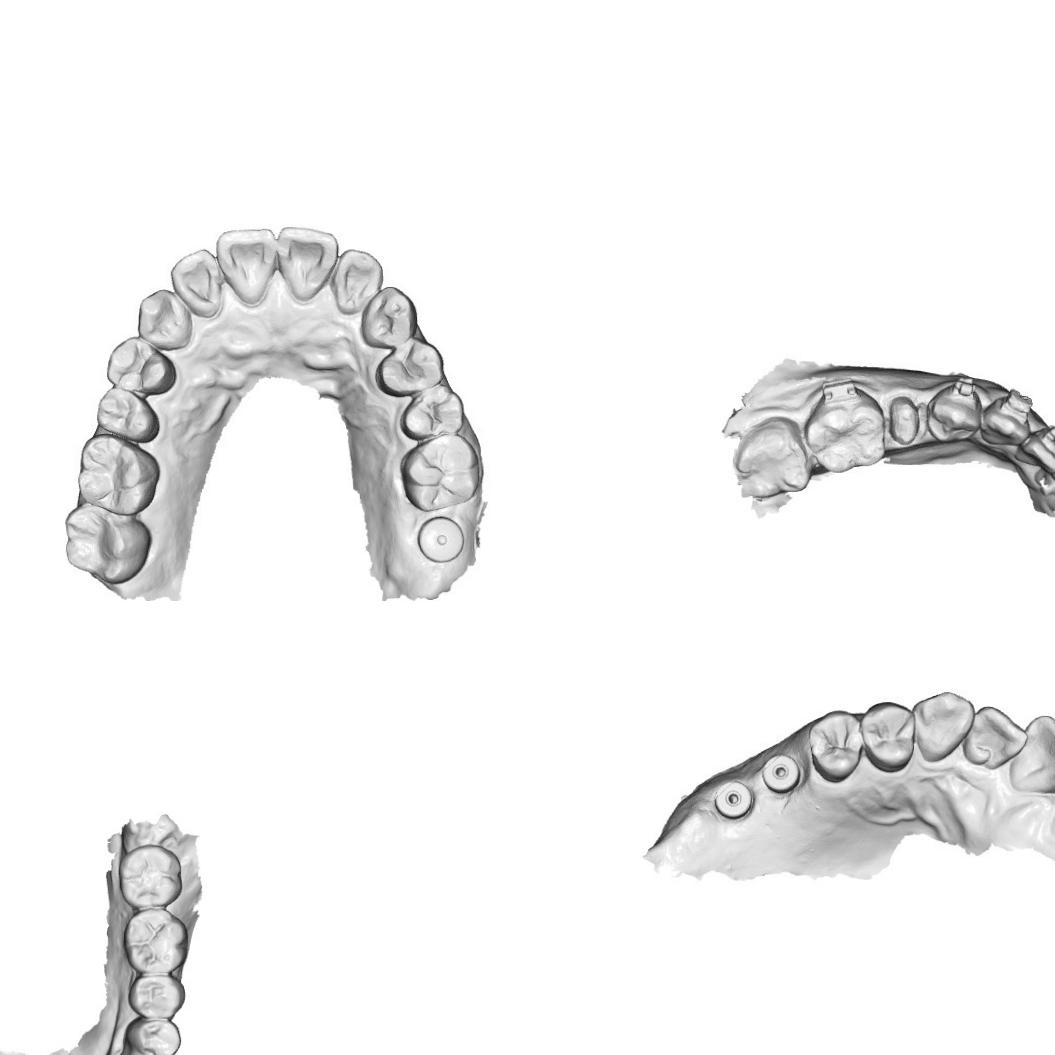canine: (912, 688, 976, 766), (360, 283, 420, 349), (133, 288, 195, 351), (975, 398, 1034, 454)
crown: (882, 391, 924, 449)
implant: (414, 513, 470, 565), (759, 750, 808, 798), (711, 774, 757, 824)
incisor: (214, 225, 279, 306), (274, 225, 340, 302), (167, 246, 226, 322), (963, 704, 1029, 768), (1007, 712, 1055, 795), (332, 248, 384, 314), (1019, 430, 1055, 476), (1047, 466, 1055, 501)
molar: (59, 501, 152, 586), (398, 430, 483, 513), (76, 434, 162, 516), (730, 416, 812, 500), (808, 392, 888, 471), (122, 905, 190, 973), (117, 842, 182, 908)
premolar: (806, 708, 865, 786), (371, 337, 444, 400), (90, 386, 166, 446), (103, 334, 176, 396), (859, 699, 919, 773), (398, 382, 466, 443), (922, 384, 982, 446), (128, 973, 187, 1020), (124, 1018, 182, 1055)
